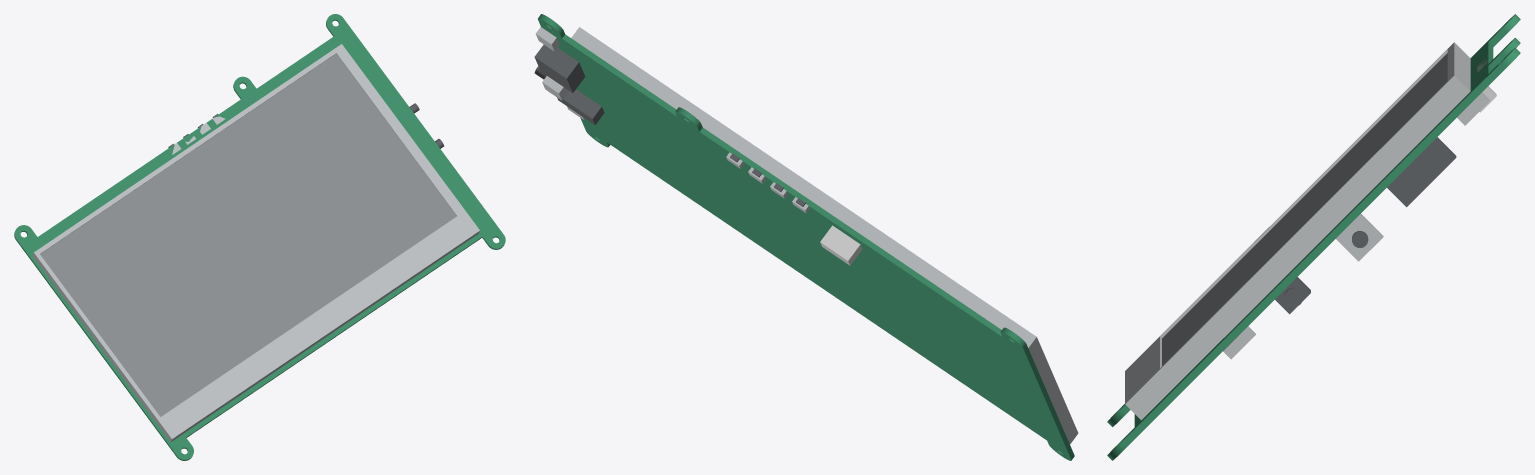
File: tablet.glb
3 views of the same model, side by side, from view 1: azimuth 30°, elevation 25°; view 2: azimuth 150°, elevation 25°; view 3: azimuth 270°, elevation 25° (orthographic). The views are drawn at different scales.
Visible parts, largest first — view 1: Mesh_Mesh_head_geo.001_lambert2SG.001; view 2: Mesh_Mesh_head_geo.001_lambert2SG.001; view 3: Mesh_Mesh_head_geo.001_lambert2SG.001.
Part boxes in pixels (bbox=[...]): Mesh_Mesh_head_geo.001_lambert2SG.001: bbox=[14, 14, 505, 460]; Mesh_Mesh_head_geo.001_lambert2SG.001: bbox=[534, 14, 1078, 460]; Mesh_Mesh_head_geo.001_lambert2SG.001: bbox=[1107, 14, 1520, 460].
Size of the model in its own units: 192 by 146 by 88.54.
